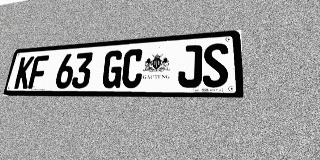3: (71, 52, 93, 88)
6: (54, 53, 76, 89)
C: (120, 48, 144, 88)
F: (28, 55, 49, 89)
G: (101, 50, 124, 88)
J: (177, 44, 202, 88)
K: (13, 56, 35, 89)
S: (202, 43, 229, 87)
